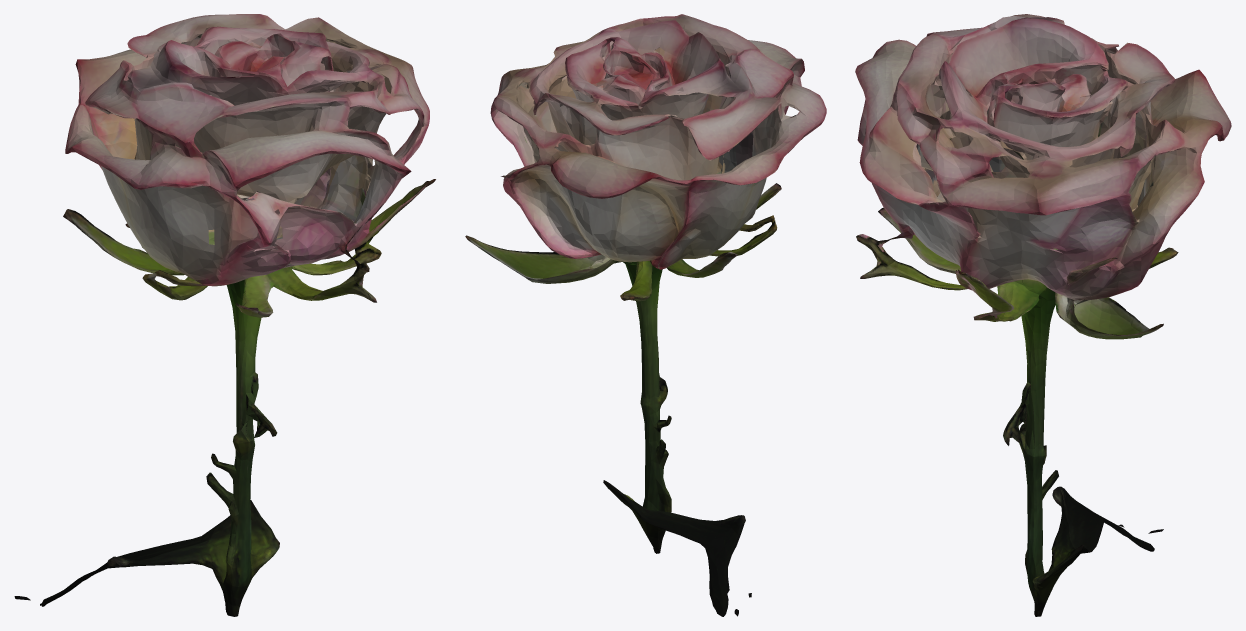
3 views of the same model, side by side, from view 1: azimuth 30°, elevation 25°; view 2: azimuth 150°, elevation 25°; view 3: azimuth 270°, elevation 25° (orthographic). The views are drawn at different scales.
Visible parts, largest first — view 1: world; view 2: world; view 3: world.
Boxes of the visible parts, <box> form: world: <box>14,14,435,616</box>; world: <box>465,14,826,616</box>; world: <box>855,14,1231,616</box>.
Bounding box in the file's own units: 0.6035 × 0.9836 × 0.5907.
1 material, 1 textured.
